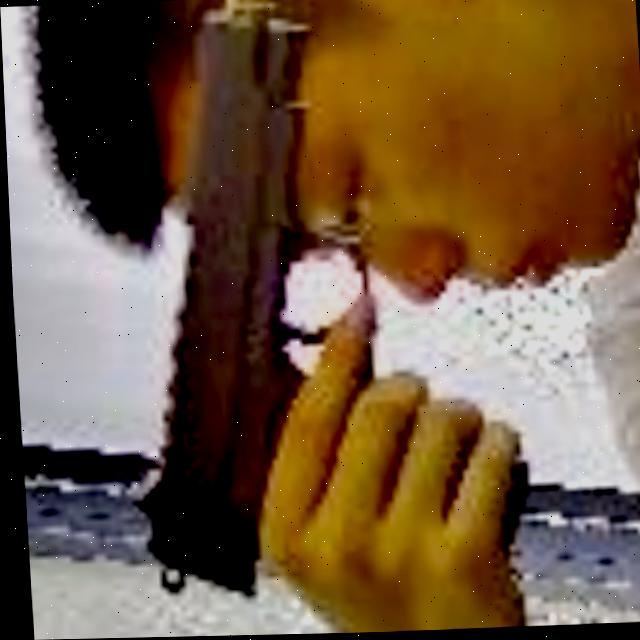pistol: (65, 0, 554, 639), (145, 19, 524, 635)
